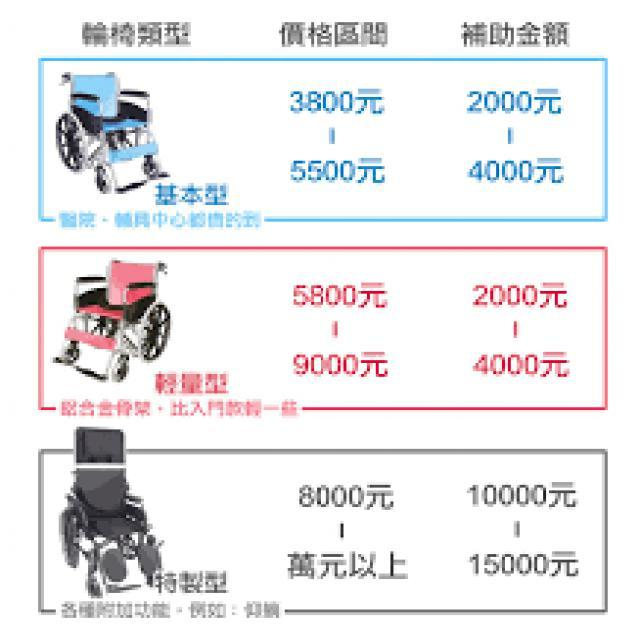wheelchair: (38, 421, 176, 593), (24, 249, 182, 399), (52, 66, 168, 200)
